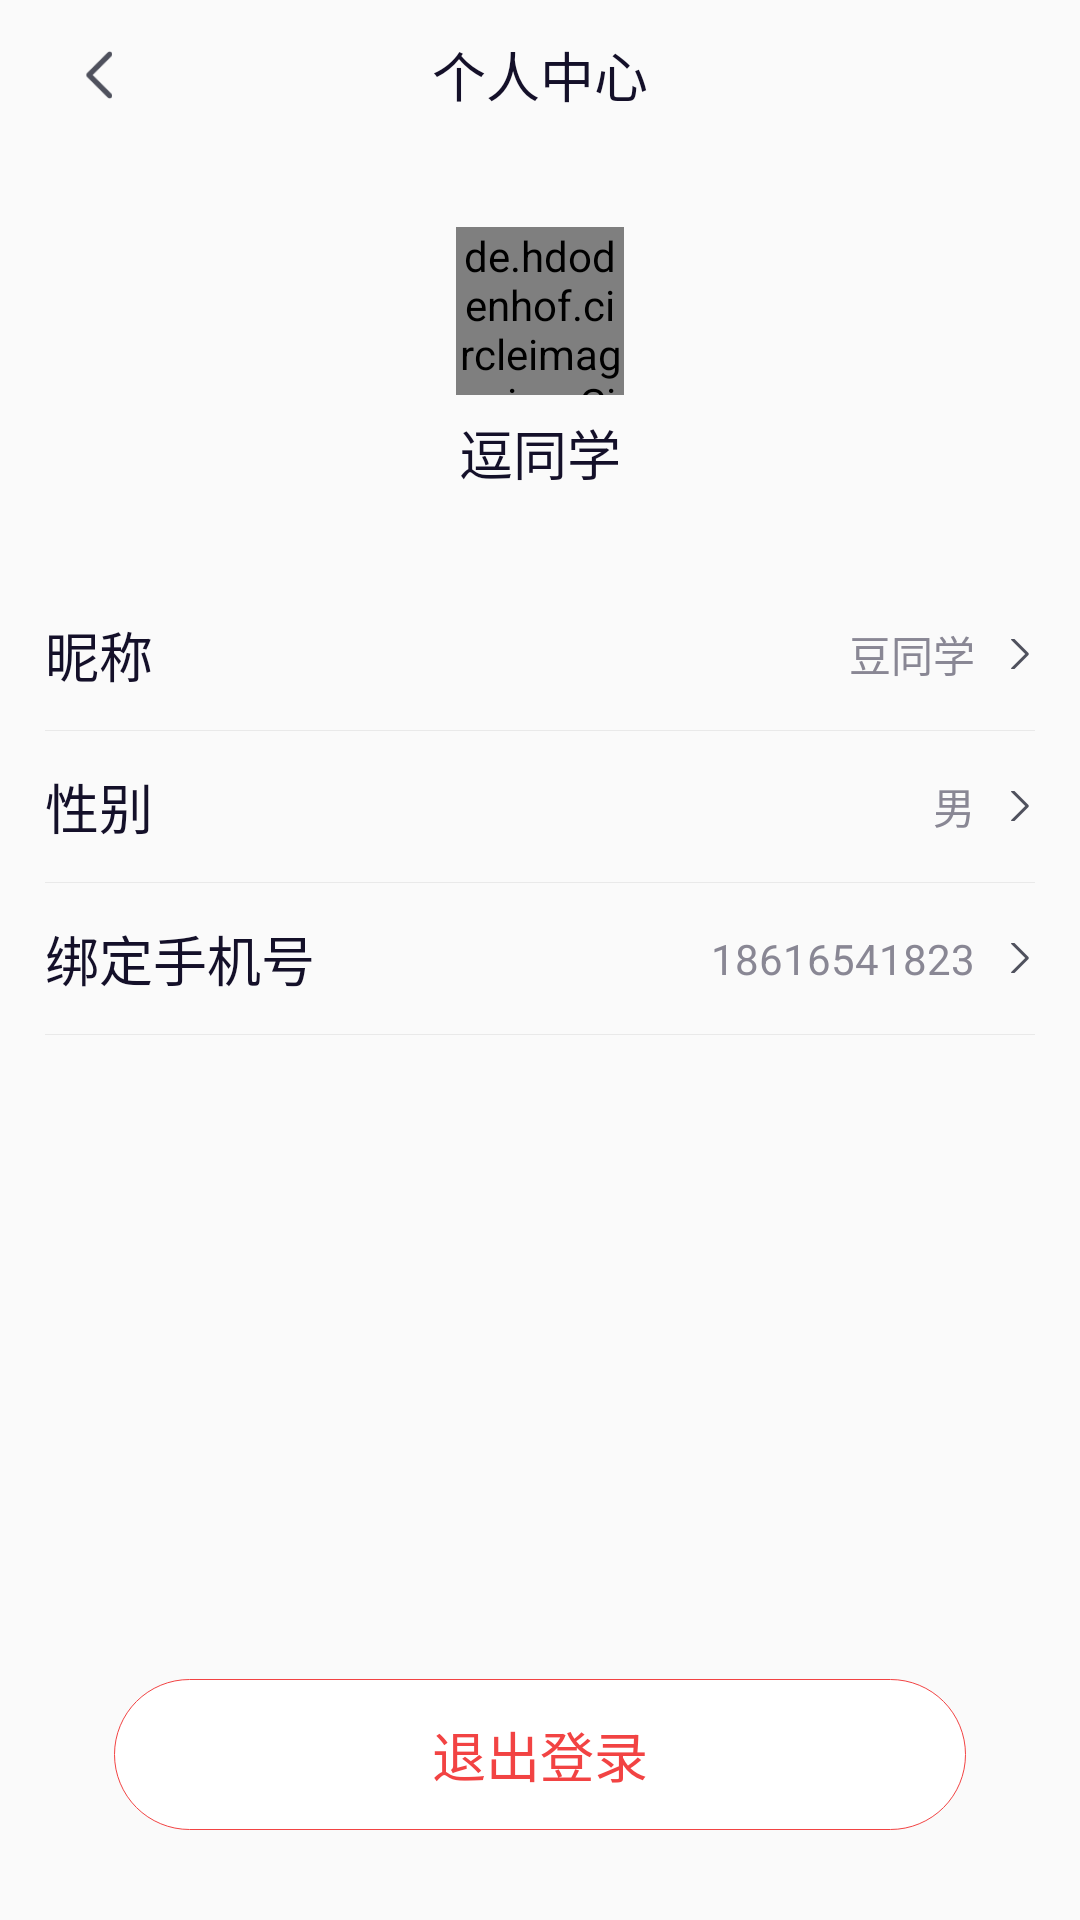

Icons on this 1080 × 1920 Android screen, each with its box as bbox(x1, y1, x2, y2):
back: bbox(86, 51, 112, 99)
